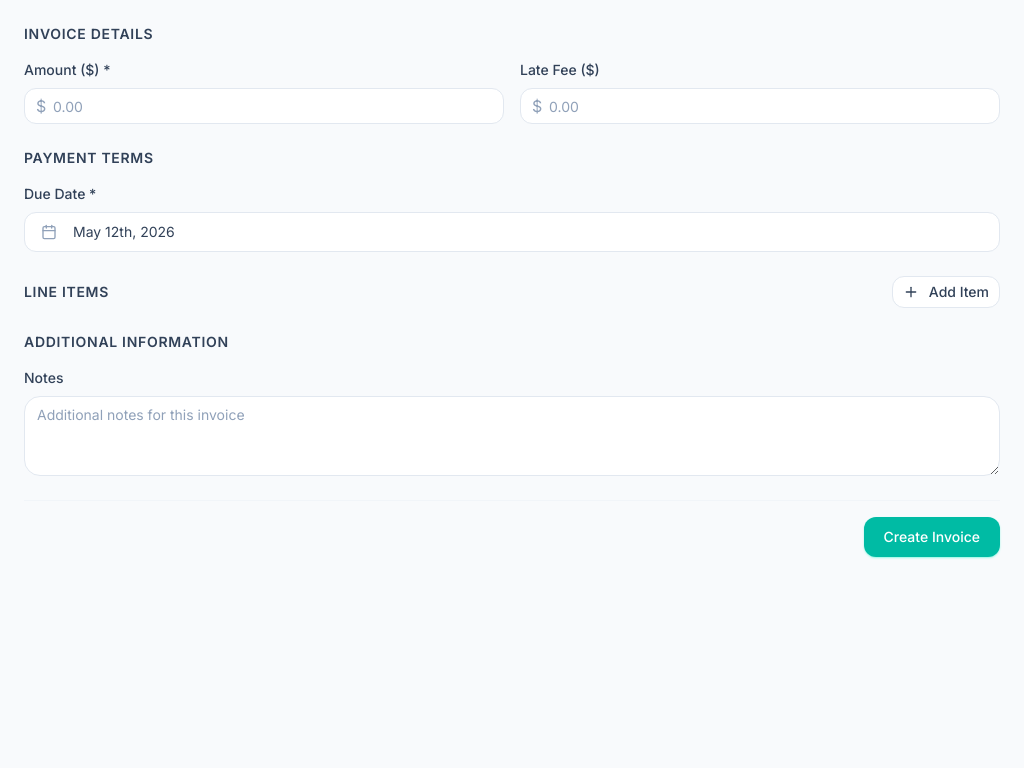
InvoiceForm › remove line item works
# Add a line item first
Click the button with test id "add-line-item-btn": (946, 292) [892,276,1000,308]
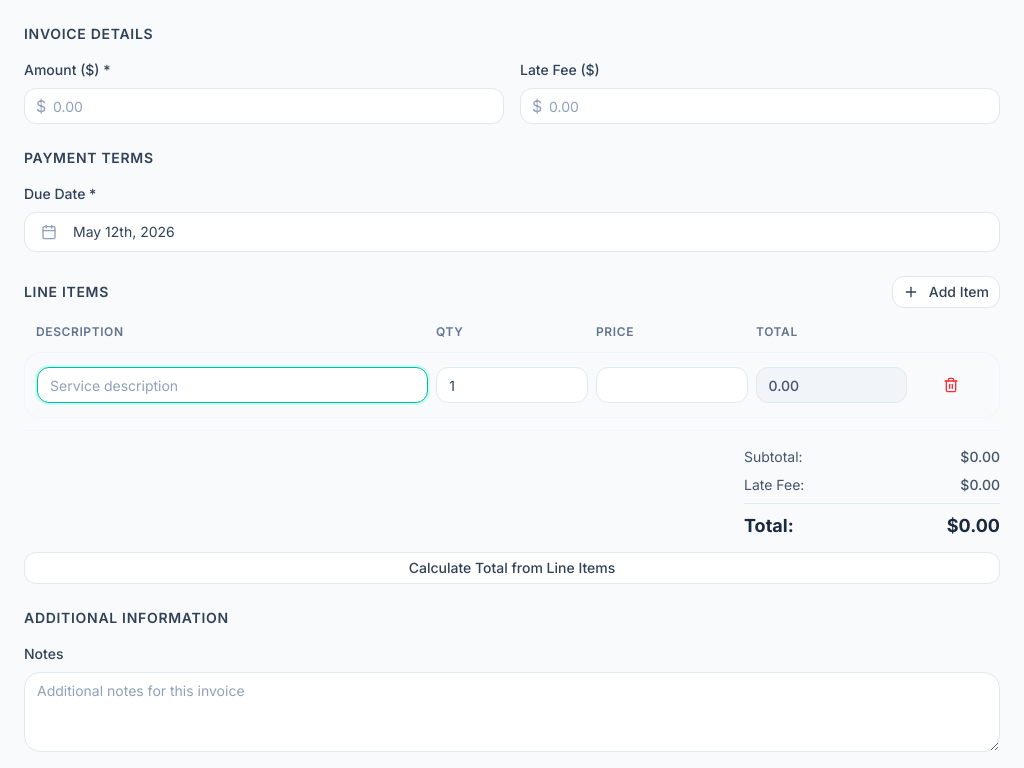
Now the element with test id "line-item-0" is shown, box [24,352,1000,418]
# Remove it
Click the button with test id "remove-line-item-btn": (951, 385) [931,365,971,405]
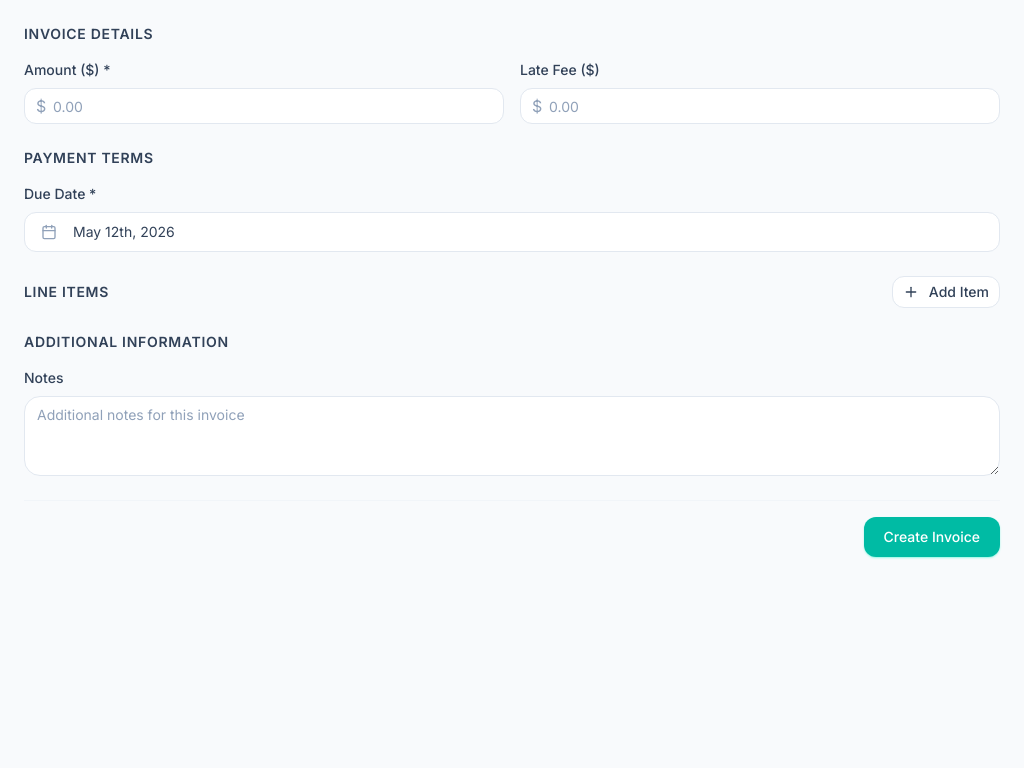
Now the element with test id "line-item-0" is gone
